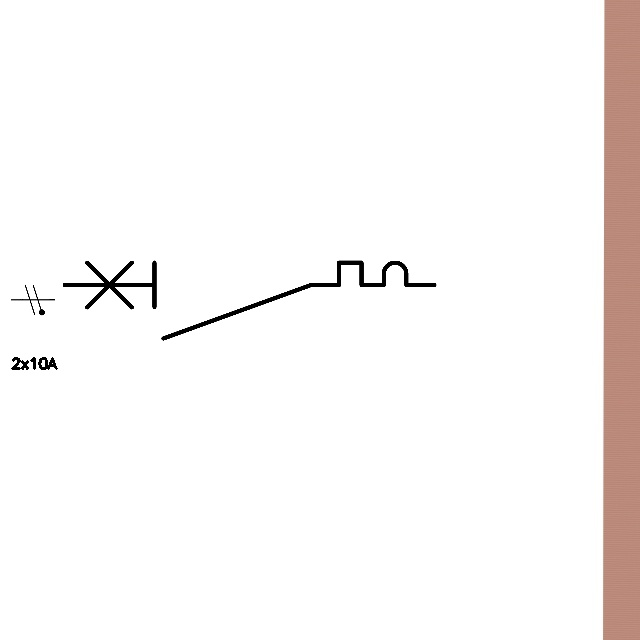interruptor_termomagnetico: (55, 253, 444, 348)
